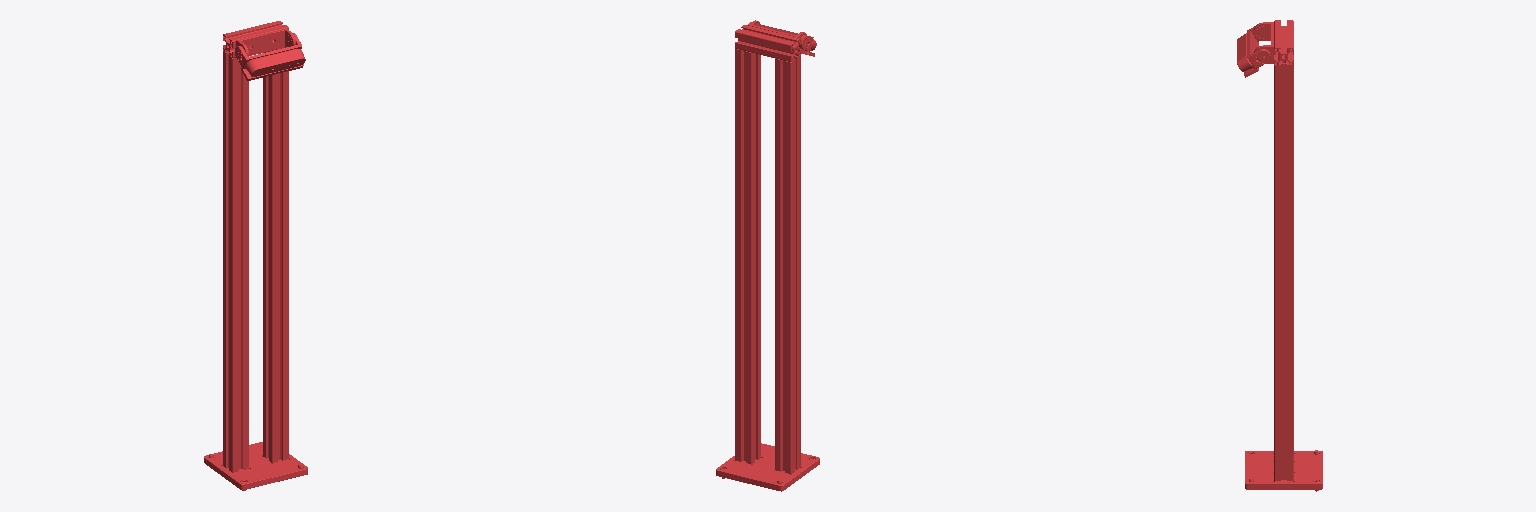
URDF robot description (base_ETC):
<?xml version="1.0" encoding="UTF-8"?>
<robot name="base_ETC">
	<link name="world" />
	<link name="base_VISION">
		<visual>
			<geometry>
				<mesh filename="package://keti_workcell_description/meshes/base3.STL" />
			</geometry>
			<material name="">
				<color rgba="0.89 0.91 0.93 1" />
			</material>
		</visual>
	</link>
	<link name="cam_jig">
		<visual>
			<geometry>
				<mesh filename="package://keti_workcell_description/meshes/cam_jig.STL" />
			</geometry>
			<material name="">
				<color rgba="0.89 0.31 0.33 1" />
			</material>
		</visual>
	</link>
	
	<joint name="base_VISION_fixed" type="fixed">
		<origin xyz="0.0012 1.59996 -0.011" rpy="0 0 0" />
		<parent link="world" />
		<child link="base_VISION" />
	</joint>
	<joint name="cam_jig_fixed" type="fixed">
		<origin xyz="-0.00103 -0.04935 0.831" rpy="0 0 -1.5709" />
		<parent link="base_VISION" />
		<child link="cam_jig" />
	</joint>
</robot>

--- Facts derived from the render (not from the file) ---
Views: 3 orthographic renders of the robot side by side, from view 1: azimuth 30°, elevation 25°; view 2: azimuth 150°, elevation 25°; view 3: azimuth 270°, elevation 25°.
Robot: base_ETC — 3 links, 2 joints (2 fixed); root link world; default pose: all joints at 0.
Visible links, largest first — view 1: cam_jig; view 2: cam_jig; view 3: cam_jig.
Link boxes in pixels (box(x1,y1,x2,y2)): cam_jig: box(204, 21, 307, 490); cam_jig: box(716, 20, 819, 491); cam_jig: box(1237, 20, 1322, 491).
Bounding box of the posed robot: 0.12 × 0.1323 × 0.744 m (x, y, z).
Meshes: 2 distinct files referenced, 1 mesh visuals loaded (1 binary STL); not drawn: 1 (reference not matched to a file when rendering).